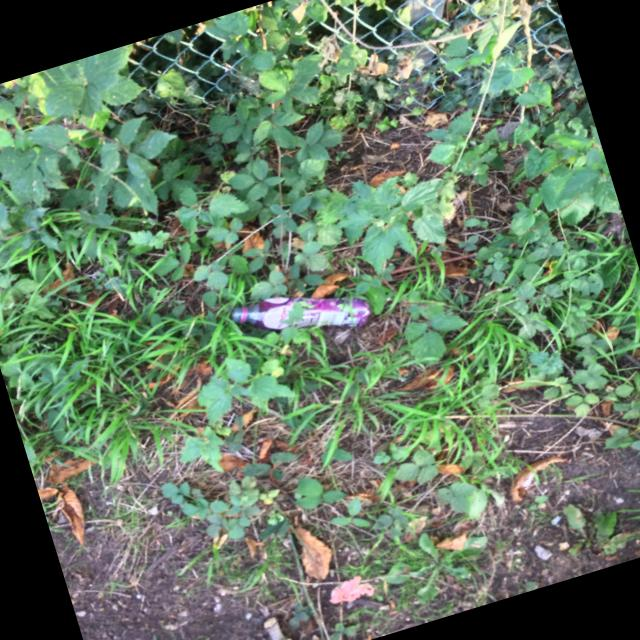less trash: (231, 296, 370, 330)
